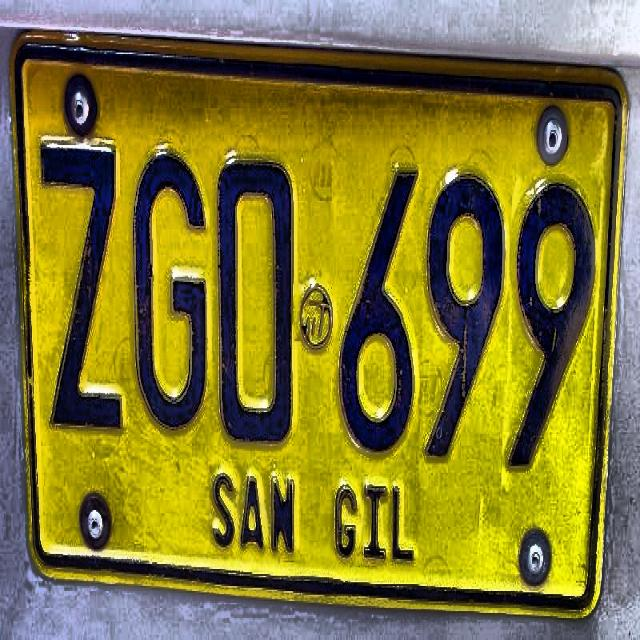plate: (8, 28, 630, 622)
